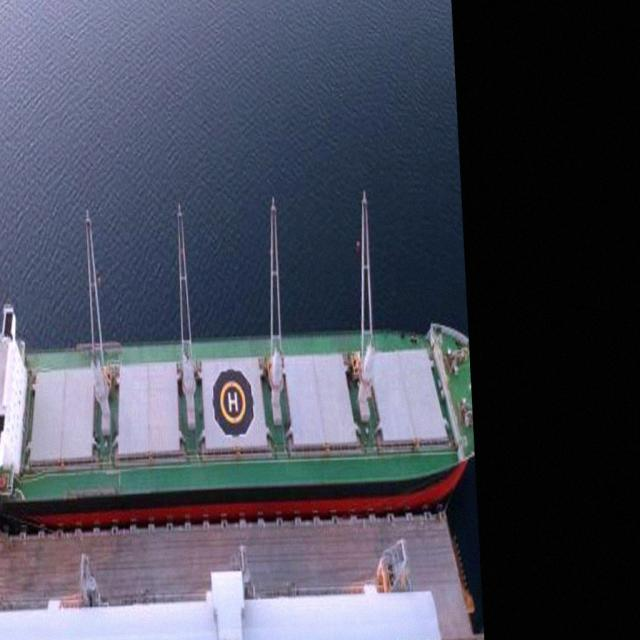helipad: (218, 378, 246, 424)
